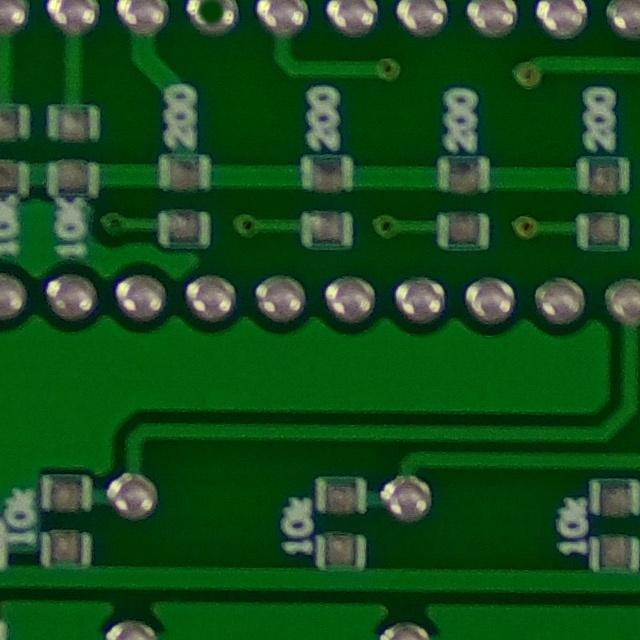missing_hole: (186, 0, 243, 42)
